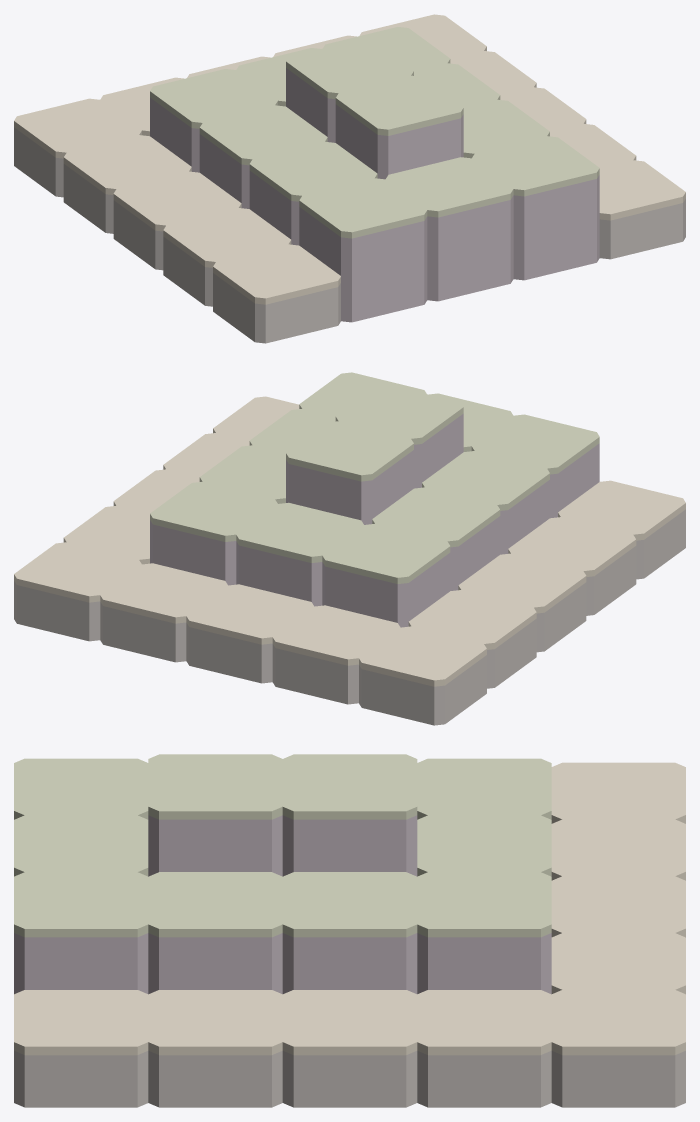
Rendered from terraces.glb.
3 renders of one model, top to bottom at view 1: azimuth 30°, elevation 25°; view 2: azimuth 150°, elevation 25°; view 3: azimuth 270°, elevation 25°, orthographic. The views are drawn at different scales.
Visible parts, largest first — view 1: terraces_ADB18A, terraces_C9B99C, terraces_998793, terraces_A29891; view 2: terraces_C9B99C, terraces_ADB18A, terraces_A29891, terraces_998793; view 3: terraces_ADB18A, terraces_C9B99C, terraces_998793, terraces_A29891.
Part boxes in pixels (x1,y1,x2,y2): terraces_ADB18A: (150,27,599,238); terraces_C9B99C: (14,14,685,304); terraces_998793: (150,68,599,322); terraces_A29891: (14,127,685,343); terraces_C9B99C: (14,396,685,686); terraces_ADB18A: (150,372,599,583); terraces_A29891: (14,509,685,725); terraces_998793: (150,413,599,627); terraces_ADB18A: (14,754,551,937); terraces_C9B99C: (14,762,685,1055); terraces_998793: (14,815,551,994); terraces_A29891: (14,880,685,1107).
Size of the model in its own units: 5 by 1.5 by 5.
